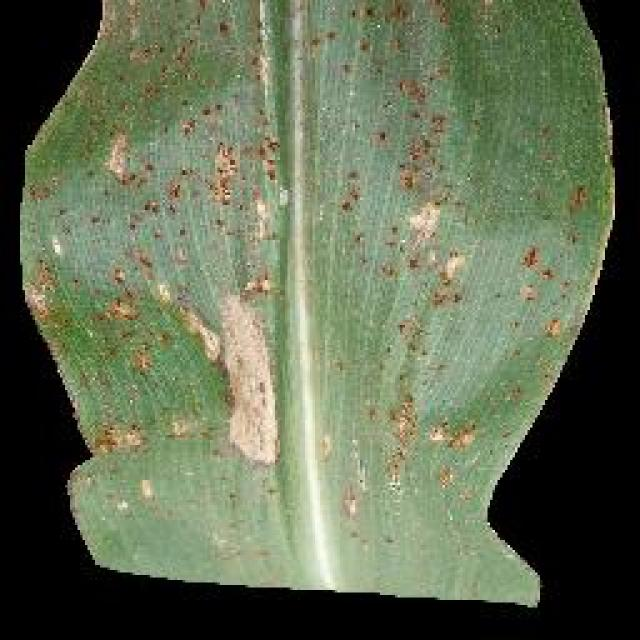Corn Common Rust: (222, 82, 550, 470)
